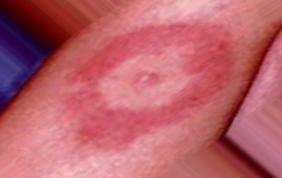Tick: (50, 10, 245, 153)
